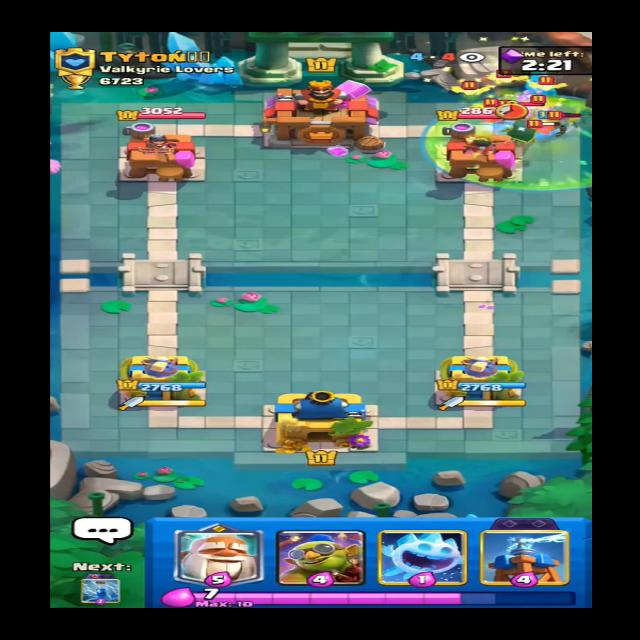bats: (483, 68, 532, 88), (450, 85, 486, 102), (531, 78, 568, 91)
night-witch: (508, 97, 552, 150)
